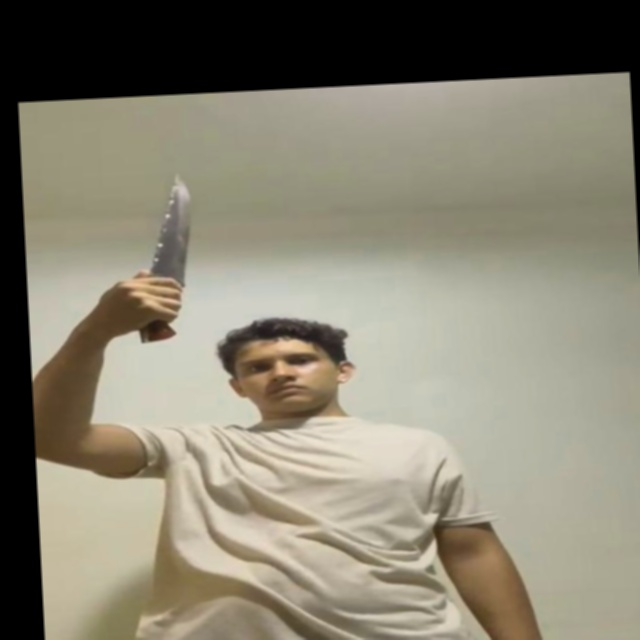Sharp-Object: (140, 174, 197, 286)
